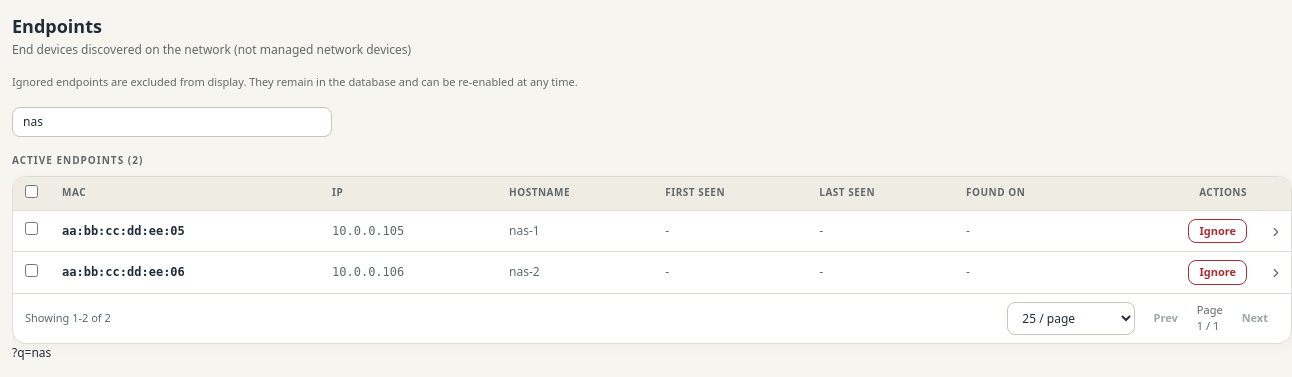
Scenario: EndpointTable › opens the endpoint inspector on row click or Enter, but not from row actions
Note: Per-row action buttons keep their own behavior.
Click the button "Ignore" in the row of "aa:bb:cc:dd:ee:05" at (1218,231), box [1188, 218, 1247, 243]
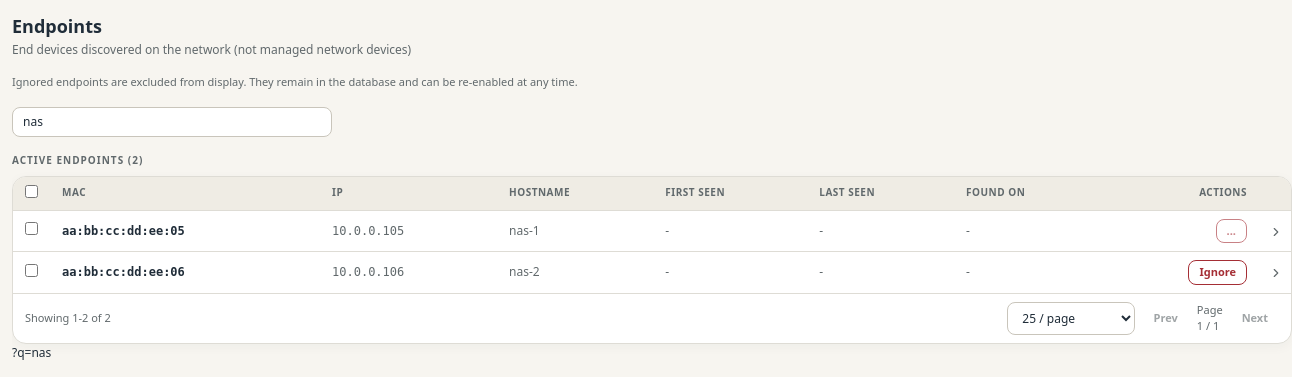
expect the text with test id "location" reads "?q=nas": met, box [12, 344, 51, 361]
Press Enter in the text "nas-1", box [13, 210, 1291, 252]
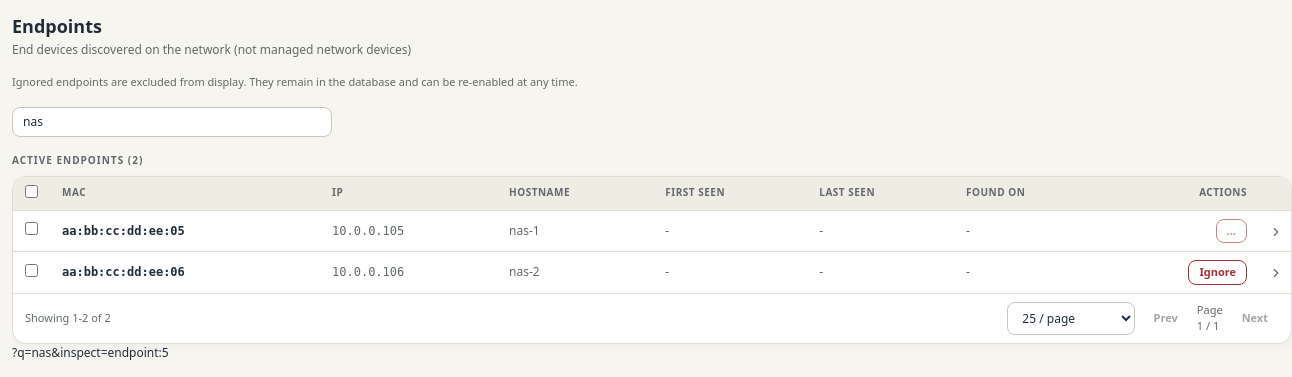
expect the text with test id "location" reads "?q=nas&inspect=endpoint:5": met, box [12, 344, 169, 361]
Click the text "nas-2" at (524,272), box [509, 264, 540, 280]
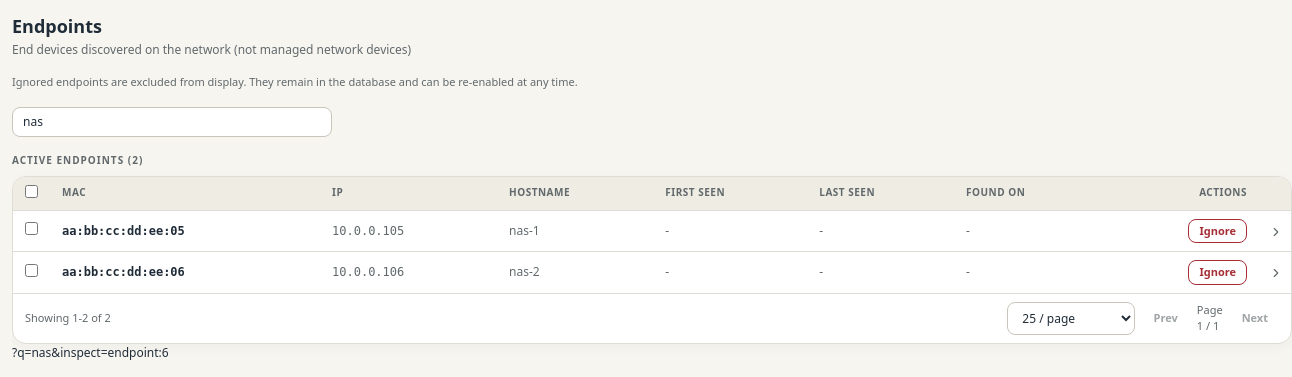
expect the text with test id "location" reads "?q=nas&inspect=endpoint:6": met, box [12, 344, 169, 361]
